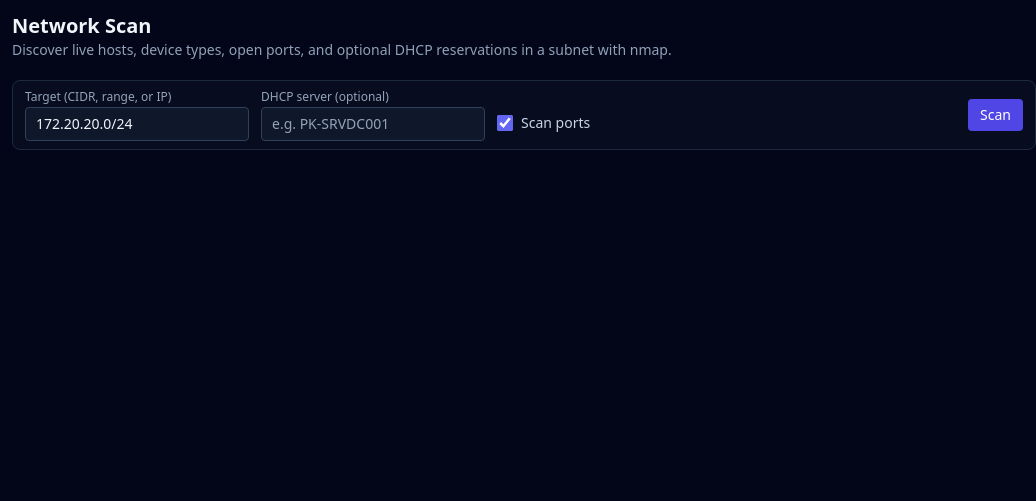
Scenario: NetworkScanPage › keeps local validation and DHCP session guidance in the product language
Clear the field labelled "Target (CIDR, range, or IP)" at (137, 124), box [25, 107, 249, 141]
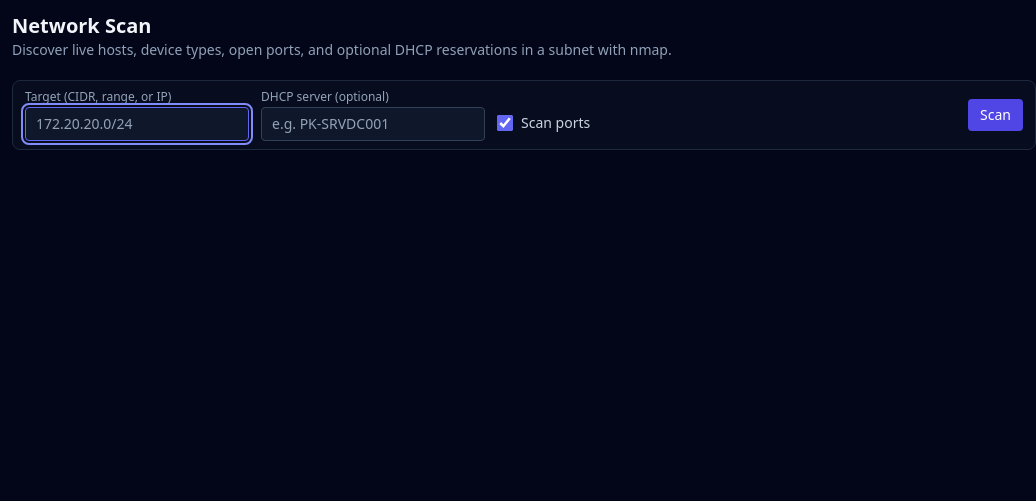
Click the button "Scan" at (996, 115), box [968, 99, 1023, 131]
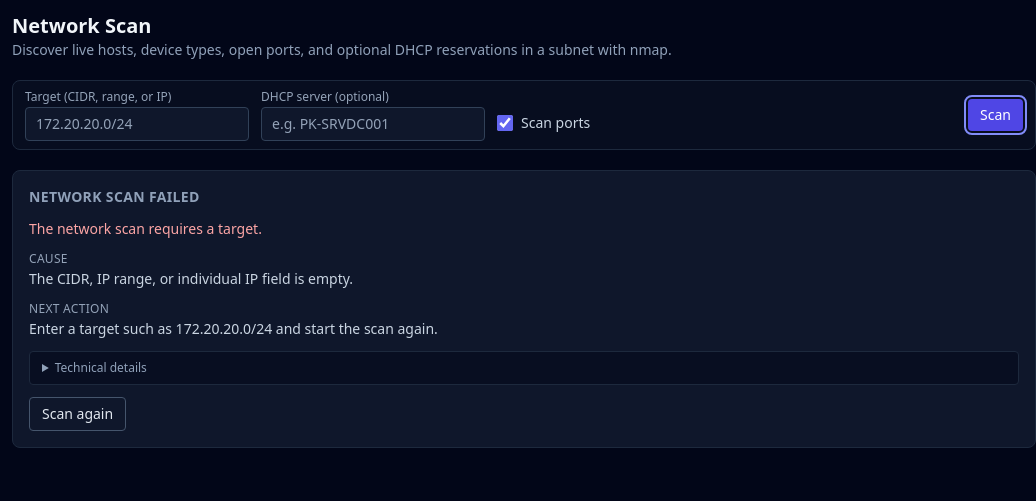
Result: the text "The network scan requires a target." is shown at [29, 219, 262, 238]
Result: the text "The CIDR, IP range, or individual IP field is empty." is shown at [29, 269, 353, 288]
Type "PK-SRVDC001" into the field labelled "DHCP server (optional)" at (373, 124), box [261, 107, 485, 141]
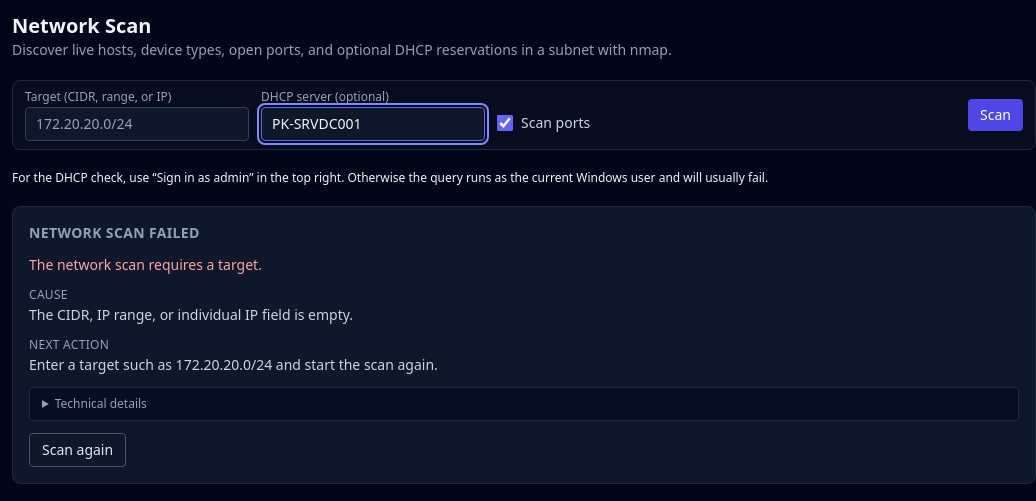
Result: the text "For the DHCP check, use “Sign in as admin”" is shown at [12, 169, 768, 186]
